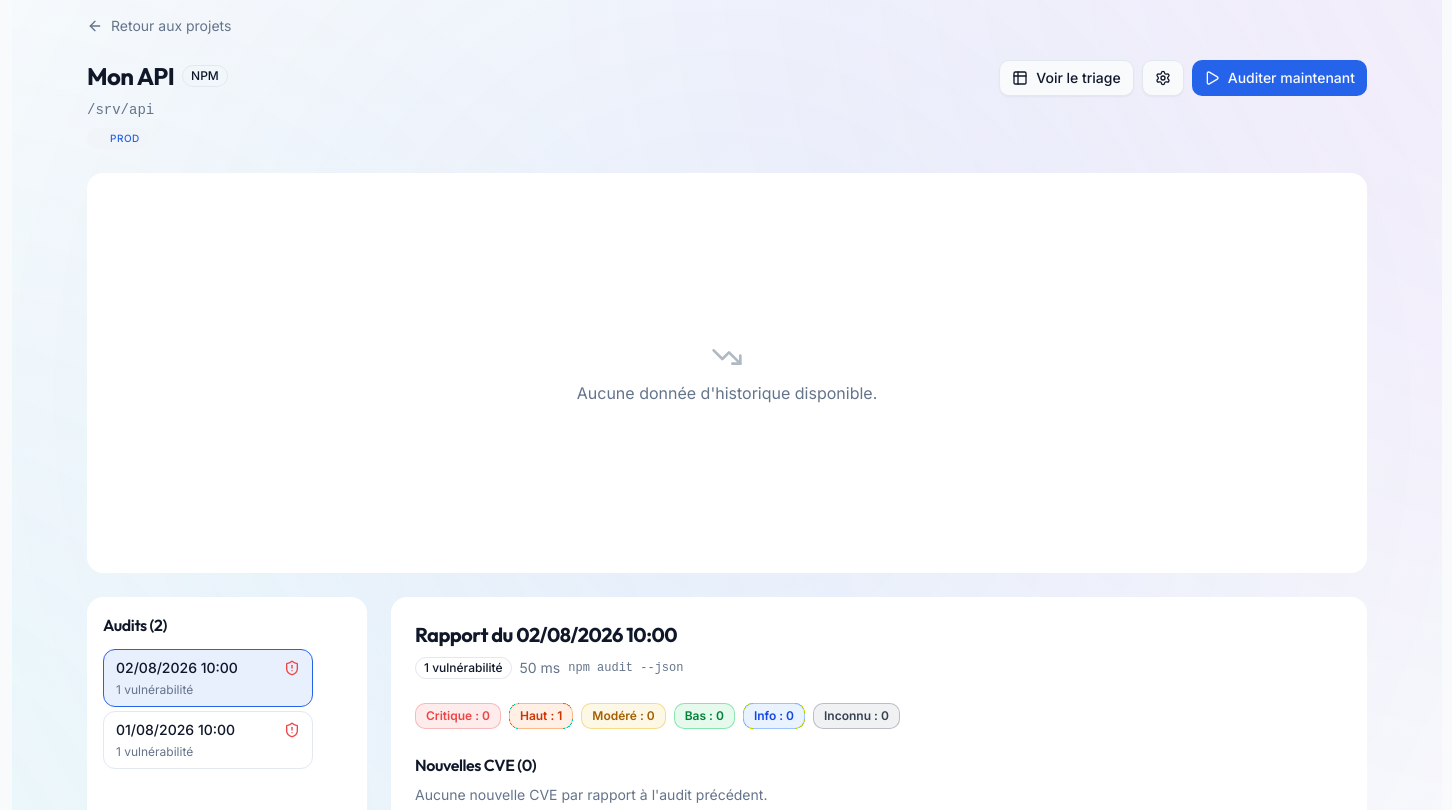
Scenario: ProjectDetail › choisir un run plus ancien change le rapport
Expected: the heading "Mon API" is shown, [87, 60, 174, 92]
Click the button "01/08/2026 10:00 1 vulnérabilité" at (208, 740), box [103, 711, 313, 769]
(page scrolled)
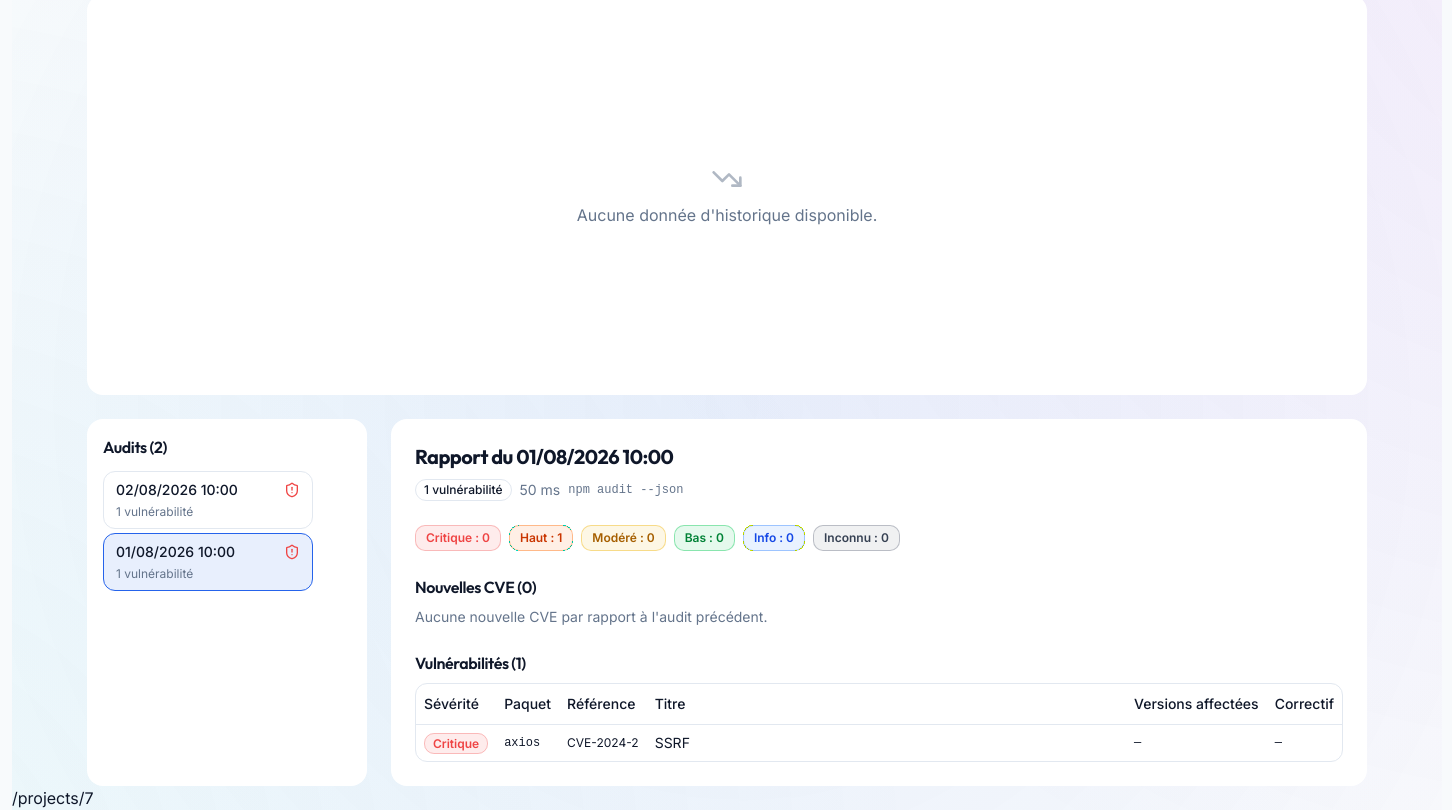
Now the element named "Rapport d'audit" shows "axios", box [504, 736, 540, 750]
Now the element named "Rapport d'audit" no longer shows "lodash", box [415, 443, 1343, 762]
